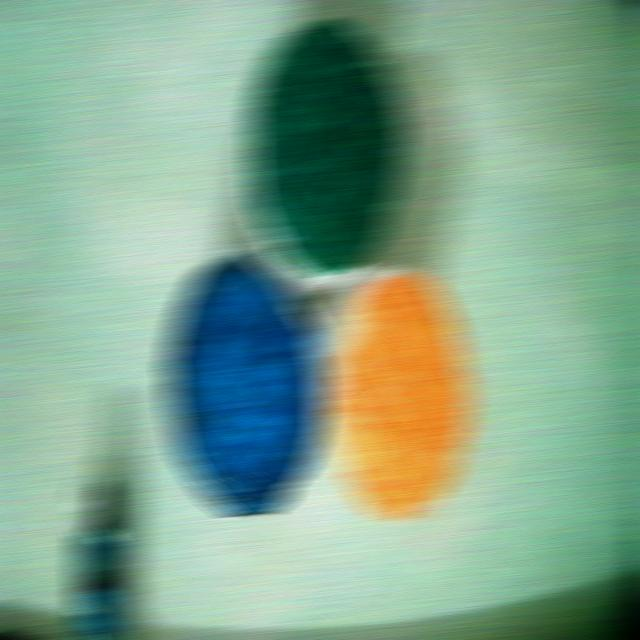blue: (164, 254, 325, 516)
green: (245, 20, 408, 286)
yellow: (324, 271, 471, 519)
